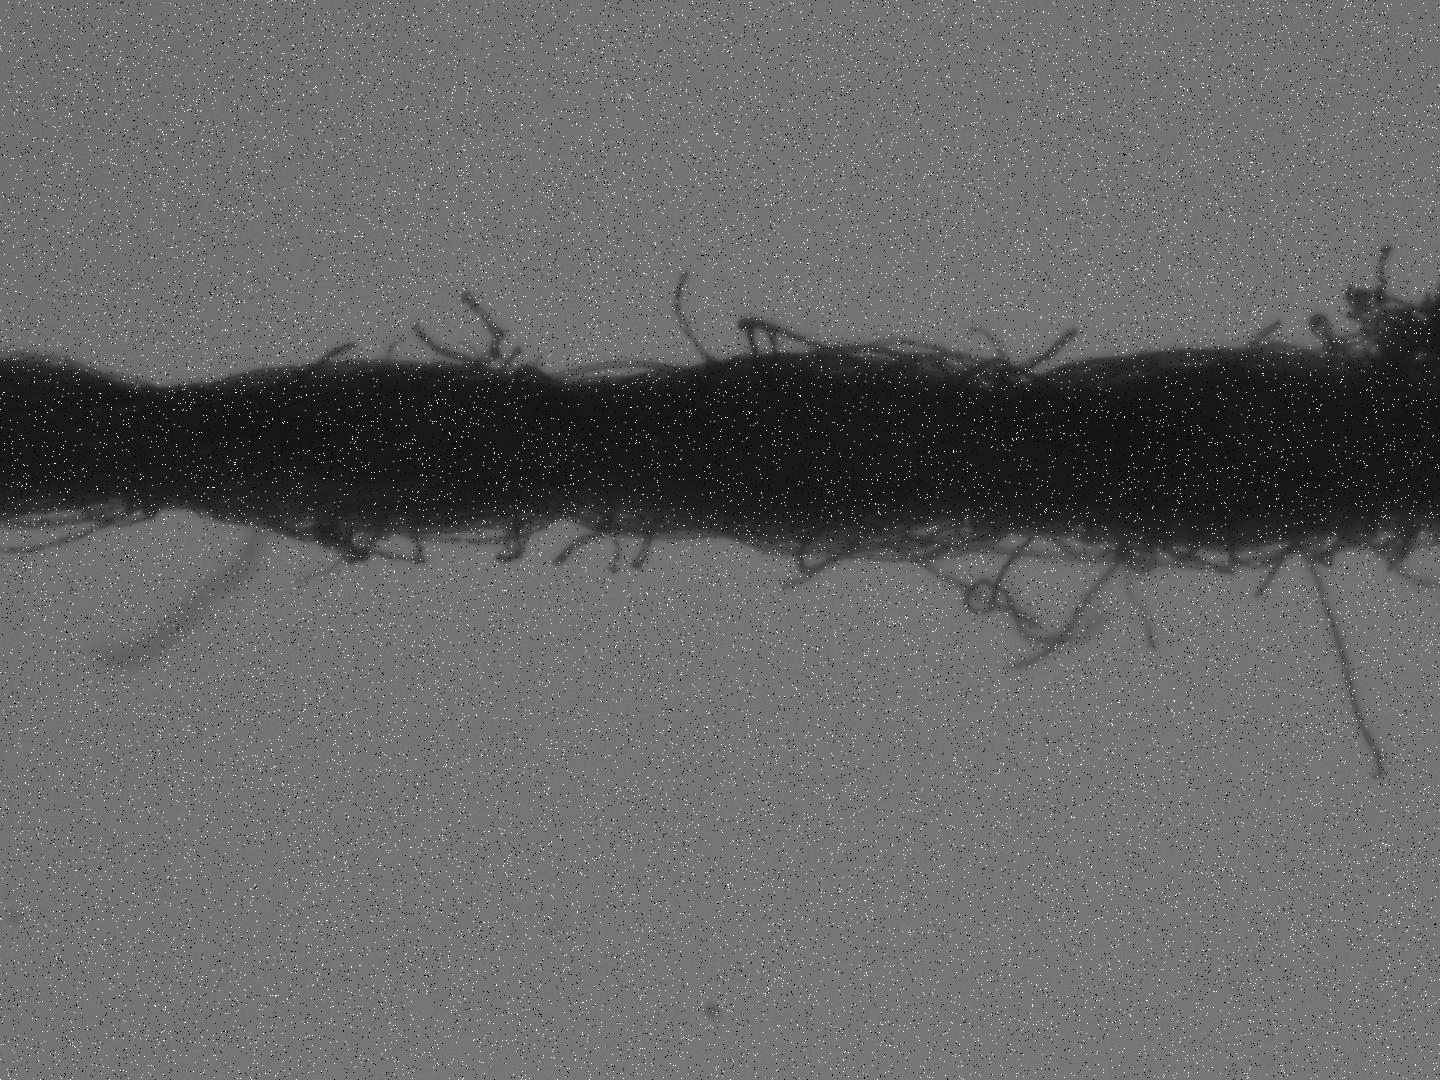loop_fiber: (389, 518, 558, 562), (1347, 287, 1433, 360), (328, 509, 425, 563), (214, 508, 333, 546), (798, 521, 882, 569), (951, 357, 1051, 393), (897, 355, 999, 389), (1339, 521, 1440, 552), (323, 511, 388, 559), (565, 355, 680, 382), (1285, 522, 1355, 563), (1312, 312, 1355, 364), (1226, 534, 1295, 565), (830, 348, 916, 372), (742, 319, 781, 358), (94, 501, 166, 523), (1126, 529, 1158, 576), (1252, 344, 1312, 366), (1341, 331, 1384, 361)
protruding_fiber: (1297, 533, 1383, 781), (1011, 542, 1129, 669), (989, 327, 1077, 381), (672, 272, 721, 368), (556, 512, 616, 567), (466, 295, 501, 369), (416, 323, 472, 364), (308, 337, 356, 379)
